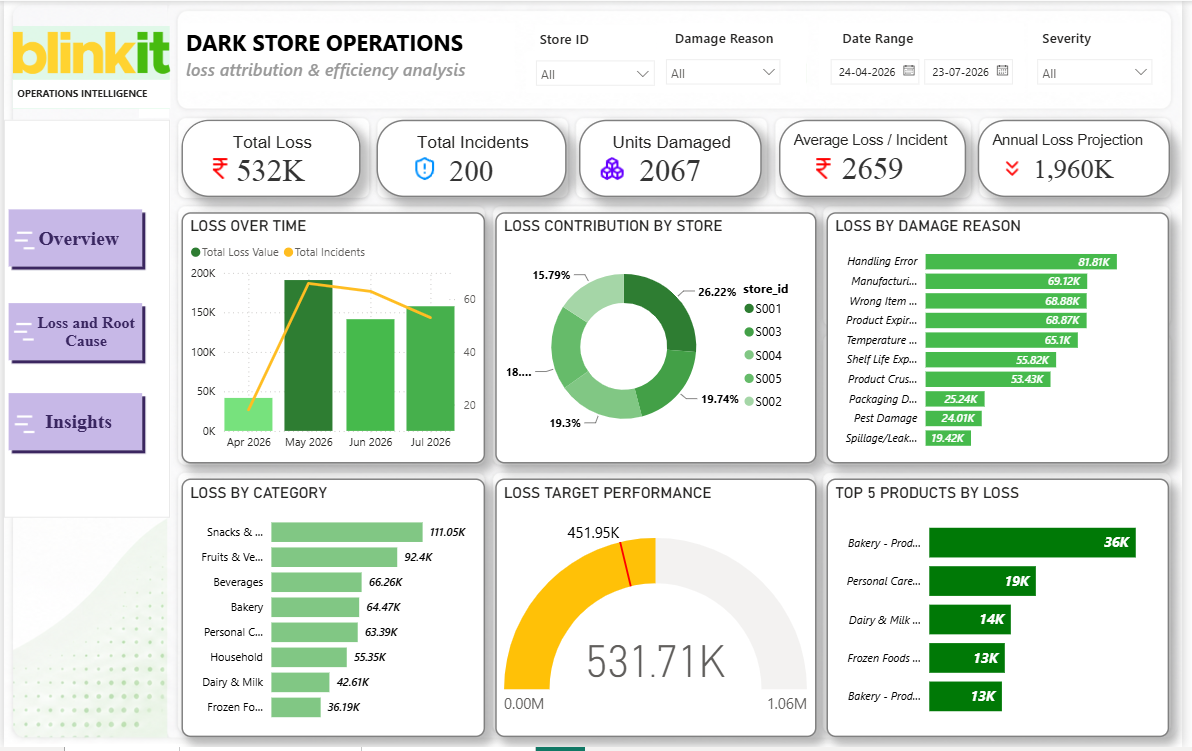

What the dashboard file says about the page in this screenshot:
{"tool":"powerbi","page":{"name":"Overview","canvas":[1280,810],"ordinal":0},"visuals":[{"type":"shape","box":[0,128.9,180.5,431.6],"z":0},{"type":"textbox","box":[193.3,24,361.3,73.3],"z":1000},{"type":"image","box":[9.5,27.1,171,58.4],"z":1000,"group":"g5"},{"type":"group","id":"g1","title":"Group 1","box":[567.4,25.6,148.8,73.3],"z":2000},{"type":"textbox","box":[576.7,25.6,131.4,36],"z":2000,"group":"g1"},{"type":"group","id":"g2","title":"Group 2","box":[708,24,164,74.7],"z":3000},{"type":"textbox","box":[722.7,24,149.3,32.7],"z":3000,"group":"g2"},{"type":"group","id":"g3","title":"Group 3","box":[884.9,24.4,223.3,74.4],"z":4000},{"type":"textbox","box":[904.7,24.4,179.1,37.2],"z":4000,"group":"g3"},{"type":"group","id":"g4","title":"Group 4","box":[1112,24,145.3,73.3],"z":5000},{"type":"textbox","box":[1123,24,124.4,36.9],"z":5000,"group":"g4"},{"type":"slicer","fields":{"Values":["employees_master.store_id"]},"box":[567.4,53.5,148.8,45.3],"z":6000,"group":"g1"},{"type":"advanceCardE03760C5AB684758B56AA29F9E6C257B","title":"Total Loss","fields":{"mainMeasure":["damaged_products.Total Loss Value"]},"box":[193.2,129.5,194.3,84.1],"z":6000},{"type":"slicer","fields":{"Values":["damaged_products.damage_reason"]},"box":[708,53.2,144.8,45.5],"z":7000,"group":"g2"},{"type":"advanceCardE03760C5AB684758B56AA29F9E6C257B","title":"Total Incidents","fields":{"mainMeasure":["damaged_products.Total Incidents"]},"box":[404.5,128.9,206.3,84.1],"z":7000},{"type":"slicer","fields":{"Values":["damaged_products.report_date"]},"box":[884.9,53.5,223.3,45.3],"z":8000,"group":"g3"},{"type":"advanceCardE03760C5AB684758B56AA29F9E6C257B","title":"Units Damaged","fields":{"mainMeasure":["damaged_products.Total Units Damaged"]},"box":[624.3,128.9,198.2,84.1],"z":8000},{"type":"slicer","fields":{"Values":["damaged_products.severity"]},"box":[1112,52.9,145.5,45],"z":9000,"group":"g4"},{"type":"image","box":[217.2,168.3,35.3,27.1],"z":9000},{"type":"image","box":[438.4,168.3,36.6,27.1],"z":10000},{"type":"image","box":[642,168.3,36.6,27.1],"z":11000},{"type":"advanceCardE03760C5AB684758B56AA29F9E6C257B","title":"Average Loss / Incident","fields":{"mainMeasure":["damaged_products.Avg Loss Per Incident"]},"box":[841.5,128.9,203.6,84.1],"z":12000},{"type":"image","box":[871.4,168.3,36.6,27.1],"z":13000},{"type":"advanceCardE03760C5AB684758B56AA29F9E6C257B","title":"Annual Loss Projection","fields":{"mainMeasure":["damaged_products.Annualized Loss"]},"box":[1057.3,128.9,209,84.1],"z":14000},{"type":"image","box":[1076.3,168.3,36.6,27.1],"z":15000},{"type":"lineClusteredColumnComboChart","title":"LOSS OVER TIME","fields":{"Y":["damaged_products.Total Loss Value"],"Y2":["damaged_products.Total Incidents"],"Category":["damaged_products.Month Start"]},"box":[192.7,229.4,329.8,272.8],"z":16000},{"type":"donutChart","title":"LOSS CONTRIBUTION BY STORE","fields":{"Category":["damaged_products.store_id"],"Y":["damaged_products.Loss % of Total"]},"box":[533.4,229.4,348.8,272.8],"z":17000},{"type":"clusteredBarChart","title":"LOSS BY DAMAGE REASON","fields":{"Category":["damaged_products.damage_reason"],"Y":["damaged_products.Total Loss Value"]},"box":[893.1,229.4,371.9,272.8],"z":18000},{"type":"clusteredBarChart","title":" LOSS BY CATEGORY","fields":{"Category":["damaged_products.category"],"Y":["damaged_products.Total Loss Value"]},"box":[192.7,518.5,329.8,280.9],"z":19000},{"type":"gauge","title":"LOSS TARGET PERFORMANCE","fields":{"Y":["damaged_products.Total Loss Value"],"TargetValue":["damaged_products.Target Loss"]},"box":[533.4,518.5,348.8,280.9],"z":20000},{"type":"clusteredBarChart","title":"TOP 5 PRODUCTS BY LOSS","fields":{"Category":["damaged_products.product_name"],"Y":["damaged_products.Total Loss Value"]},"box":[893.1,518.5,371.9,280.9],"z":21000},{"type":"actionButton","box":[0,221.2,155,72],"z":22000},{"type":"textbox","box":[9.5,85.5,171,31.2],"z":23000,"group":"g5"},{"type":"actionButton","box":[0,323,155,72],"z":23000},{"type":"actionButton","box":[0,420.7,155,72],"z":24000},{"type":"group","id":"g5","title":"Group 5","box":[9.5,27.1,171,89.6],"z":25000},{"type":"image","box":[0,245.7,45,29],"z":26000},{"type":"image","box":[0,344.7,43,29],"z":27000},{"type":"image","box":[0,445.2,45,29],"z":28000}]}

Visuals, with their boxes in screenshot pixels (x1, y1, x2, y2), scaled from the page's 1280x810 canvas onto the 1192x751 screenshot:
shape: detection(0, 120, 168, 520)
textbox: detection(180, 22, 516, 90)
image: detection(9, 25, 168, 79)
"Group 1" group: detection(528, 24, 667, 92)
textbox: detection(537, 24, 659, 57)
"Group 2" group: detection(659, 22, 812, 92)
textbox: detection(673, 22, 812, 53)
"Group 3" group: detection(824, 23, 1032, 92)
textbox: detection(843, 23, 1009, 57)
"Group 4" group: detection(1036, 22, 1171, 90)
textbox: detection(1046, 22, 1162, 56)
slicer - employees_master.store_id: detection(528, 50, 667, 92)
"Total Loss" advanceCardE03760C5AB684758B56AA29F9E6C257B: detection(180, 120, 361, 198)
slicer - damaged_products.damage_reason: detection(659, 49, 794, 92)
"Total Incidents" advanceCardE03760C5AB684758B56AA29F9E6C257B: detection(377, 120, 569, 197)
slicer - damaged_products.report_date: detection(824, 50, 1032, 92)
"Units Damaged" advanceCardE03760C5AB684758B56AA29F9E6C257B: detection(581, 120, 766, 197)
slicer - damaged_products.severity: detection(1036, 49, 1171, 91)
image: detection(202, 156, 235, 181)
image: detection(408, 156, 442, 181)
image: detection(598, 156, 632, 181)
"Average Loss / Incident" advanceCardE03760C5AB684758B56AA29F9E6C257B: detection(784, 120, 973, 197)
image: detection(811, 156, 846, 181)
"Annual Loss Projection" advanceCardE03760C5AB684758B56AA29F9E6C257B: detection(985, 120, 1179, 197)
image: detection(1002, 156, 1036, 181)
"LOSS OVER TIME" lineClusteredColumnComboChart: detection(179, 213, 487, 466)
"LOSS CONTRIBUTION BY STORE" donutChart: detection(497, 213, 822, 466)
"LOSS BY DAMAGE REASON" clusteredBarChart: detection(832, 213, 1178, 466)
" LOSS BY CATEGORY" clusteredBarChart: detection(179, 481, 487, 741)
"LOSS TARGET PERFORMANCE" gauge: detection(497, 481, 822, 741)
"TOP 5 PRODUCTS BY LOSS" clusteredBarChart: detection(832, 481, 1178, 741)
actionButton: detection(0, 205, 144, 272)
textbox: detection(9, 79, 168, 108)
actionButton: detection(0, 299, 144, 366)
actionButton: detection(0, 390, 144, 457)
"Group 5" group: detection(9, 25, 168, 108)
image: detection(0, 228, 42, 255)
image: detection(0, 320, 40, 346)
image: detection(0, 413, 42, 440)
